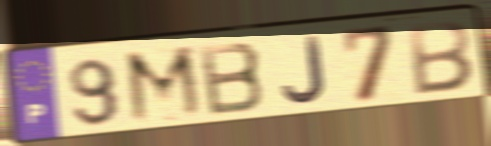7: (341, 23, 399, 106)
9: (66, 54, 123, 129)
B: (195, 40, 267, 119), (407, 18, 476, 98)
J: (279, 33, 330, 107)
M: (121, 42, 208, 128)
